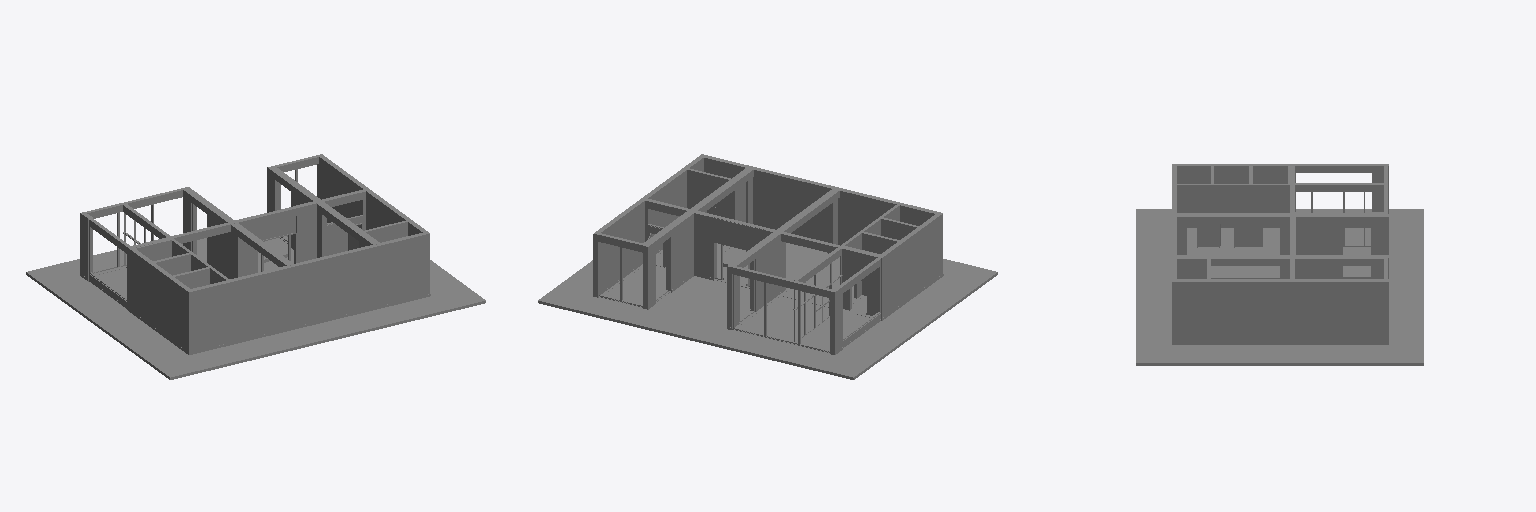
The model's file is office-building.obj.
3 renders of one model, left to right at view 1: azimuth 30°, elevation 25°; view 2: azimuth 150°, elevation 25°; view 3: azimuth 270°, elevation 25°, orthographic.
Visible parts, largest first — view 1: FixedWindow017; view 2: FixedWindow017; view 3: FixedWindow017.
Part boxes in pixels (x1,y1,x2,y2): FixedWindow017: (26,154,485,379); FixedWindow017: (538,154,997,379); FixedWindow017: (1136,164,1423,365).
Bounding box in the file's own units: 24 × 4.78 × 19.